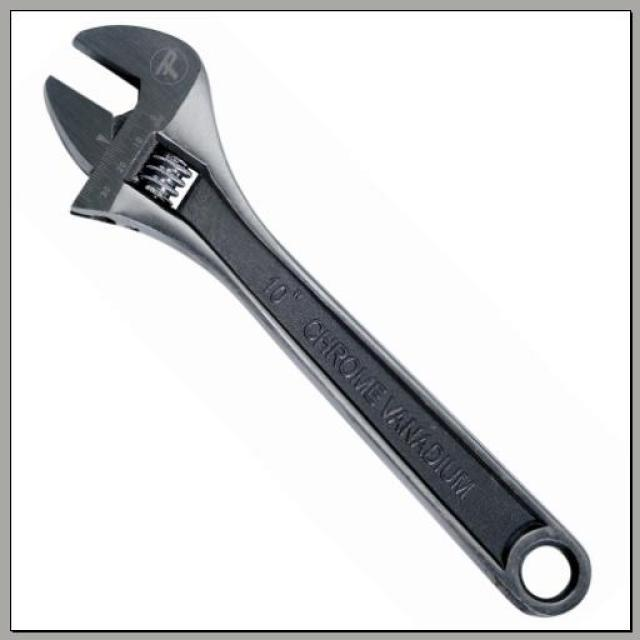wrench: (40, 19, 598, 625)
